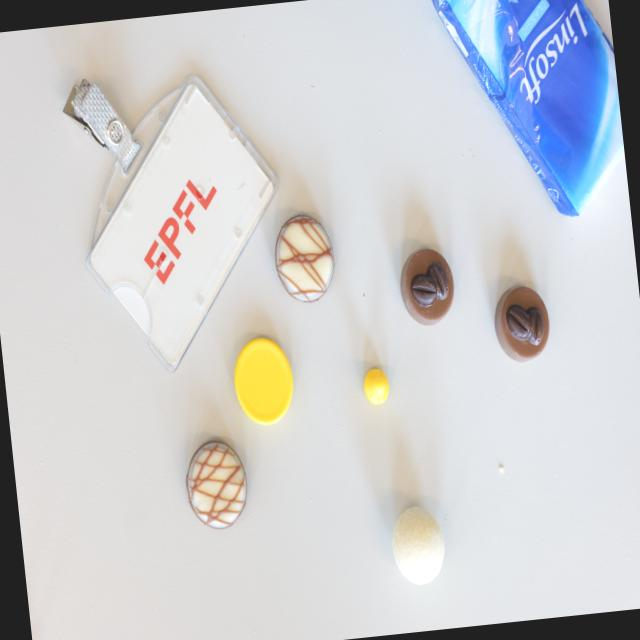Arabia: (396, 244, 458, 328), (491, 282, 553, 366)
Comtesse: (388, 502, 448, 588)
Creme_brulee: (180, 438, 250, 532), (270, 212, 338, 308)
